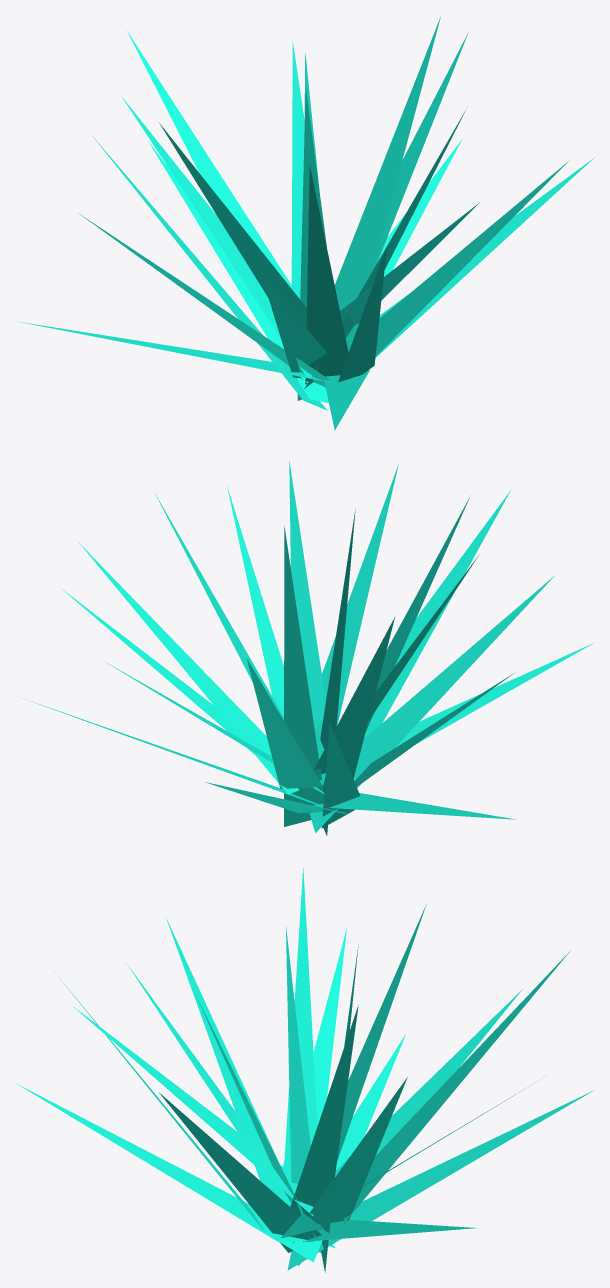
The model's file is Agave_LOD3.fbx.
3 renders of one model, top to bottom at view 1: azimuth 30°, elevation 25°; view 2: azimuth 150°, elevation 25°; view 3: azimuth 270°, elevation 25°, orthographic. The views are drawn at different scales.
Visible parts, largest first — view 1: Agave_LOD3; view 2: Agave_LOD3; view 3: Agave_LOD3.
Boxes of the visible parts, box(x1,y1,x2,y2) form: Agave_LOD3: box(18, 16, 594, 430); Agave_LOD3: box(25, 461, 593, 835); Agave_LOD3: box(16, 868, 593, 1272).
Bounding box in the file's own units: 179 × 112 × 183.
